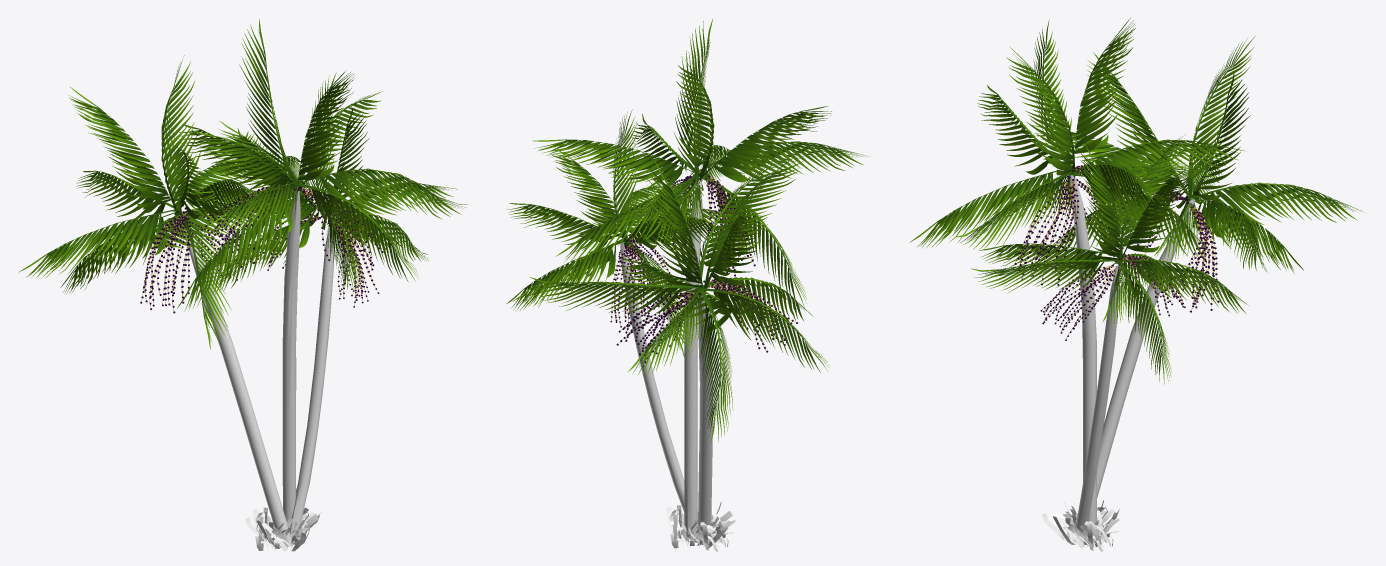
Rendered from acaizeiro.fbx.
3 renders of one model, left to right at view 1: azimuth 30°, elevation 25°; view 2: azimuth 150°, elevation 25°; view 3: azimuth 270°, elevation 25°, orthographic. The views are drawn at different scales.
Visible parts, largest first — view 1: Cylinder, Cylinder.001, Cylinder.002, Plane.014, Plane.003, Plane.012, Plane.007, Plane.008, Plane.005, Plane.015, Plane.004, Plane.009 (+19 smaller); view 2: Cylinder, Plane.010, Plane.009, Cylinder.001, Plane.012, Plane.011, Plane.013, Plane.015, Cylinder.002, Plane.006, Plane.019, Plane.004 (+22 smaller); view 3: Cylinder, Plane.004, Plane.020, Cylinder.001, Cylinder.002, Plane.005, Plane.008, Plane.002, Plane.022, Plane.003, Plane.014, Plane.025 (+20 smaller).
Part boxes in pixels (left/top/right/bottom): Cylinder: left=282, top=187, right=300, bottom=521; Cylinder.001: left=182, top=212, right=293, bottom=547; Cylinder.002: left=290, top=216, right=334, bottom=542; Plane.014: left=69, top=86, right=178, bottom=216; Plane.003: left=299, top=168, right=467, bottom=219; Plane.012: left=18, top=209, right=175, bottom=278; Plane.007: left=177, top=185, right=298, bottom=311; Plane.008: left=295, top=183, right=418, bottom=281; Plane.005: left=297, top=71, right=354, bottom=183; Plane.015: left=161, top=55, right=200, bottom=225; Plane.004: left=239, top=19, right=296, bottom=184; Plane.009: left=191, top=130, right=292, bottom=201; Cylinder: left=684, top=176, right=702, bottom=539; Plane.010: left=532, top=139, right=695, bottom=192; Plane.009: left=699, top=106, right=831, bottom=182; Cylinder.001: left=698, top=295, right=713, bottom=526; Plane.012: left=701, top=288, right=828, bottom=372; Plane.011: left=700, top=290, right=733, bottom=443; Plane.013: left=529, top=277, right=700, bottom=316; Plane.015: left=647, top=161, right=703, bottom=288; Cylinder.002: left=620, top=239, right=697, bottom=530; Plane.006: left=699, top=141, right=869, bottom=183; Plane.019: left=704, top=155, right=803, bottom=291; Plane.004: left=676, top=60, right=714, bottom=180; Cylinder: left=1070, top=175, right=1096, bottom=543; Plane.004: left=1074, top=18, right=1135, bottom=155; Plane.020: left=1191, top=182, right=1362, bottom=224; Cylinder.001: left=1076, top=198, right=1195, bottom=521; Cylinder.002: left=1074, top=264, right=1119, bottom=541; Plane.005: left=1006, top=46, right=1075, bottom=177; Plane.008: left=909, top=168, right=1071, bottom=248; Plane.002: left=1072, top=139, right=1244, bottom=184; Plane.022: left=1117, top=259, right=1248, bottom=313; Plane.003: left=955, top=171, right=1072, bottom=249; Plane.014: left=1188, top=36, right=1255, bottom=197; Plane.025: left=1080, top=145, right=1120, bottom=267.
Bounding box in the file's own units: 1357 × 1715 × 1377.
5 materials, 1 textured.
